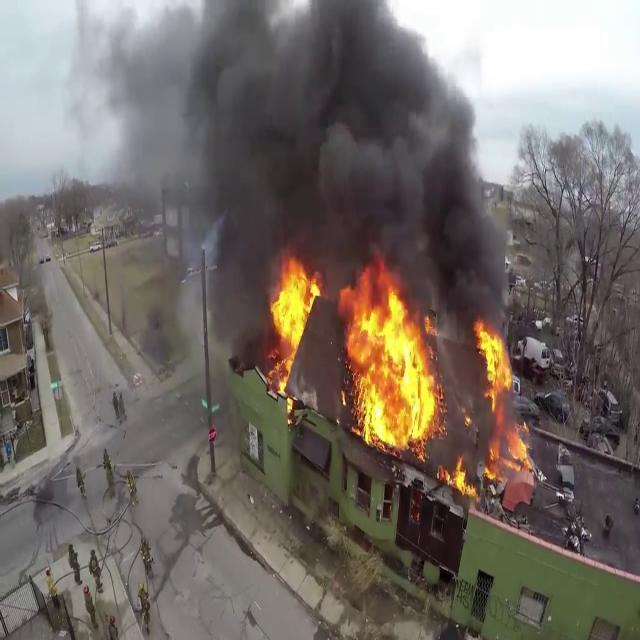Fire: (342, 276, 444, 454), (462, 312, 536, 496), (264, 256, 320, 394)
Smoke: (90, 0, 516, 308)
